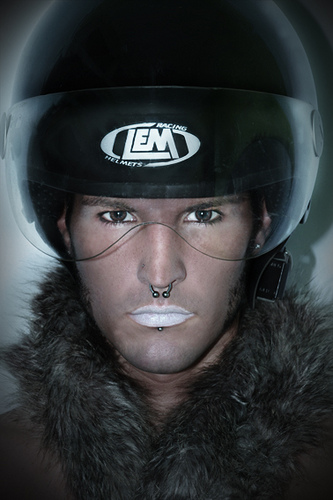helmet: (15, 7, 327, 245)
